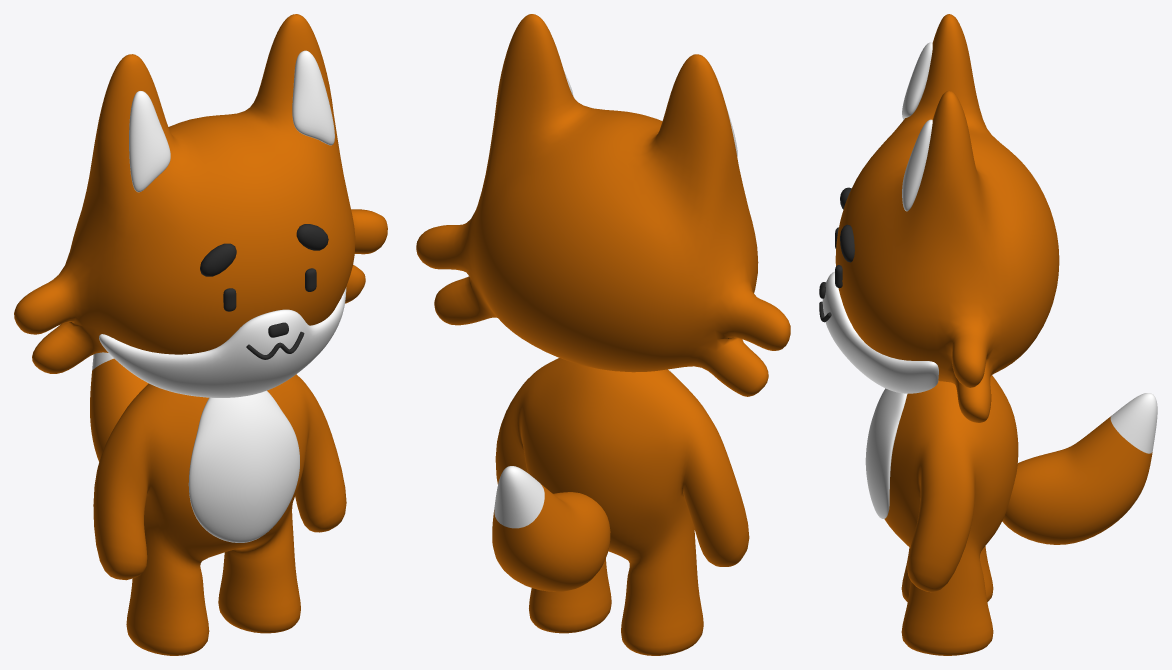
Rendered from asset.glb.
3 renders of one model, left to right at view 1: azimuth 30°, elevation 25°; view 2: azimuth 150°, elevation 25°; view 3: azimuth 270°, elevation 25°, orthographic. The views are drawn at different scales.
Visible parts, largest first — view 1: Cube, Cube.001, Cube.007, Cube.002, Cube.003, Cube.008, Cube.006, Cube.005; view 2: Cube, Cube.001, Cube.008; view 3: Cube, Cube.001, Cube.008, Cube.002, Cube.007, Cube.003, Cube.006.
Boxes of the visible parts, x1,y1,x2,y2 form: Cube: [14, 14, 387, 373]; Cube.001: [93, 374, 346, 655]; Cube.007: [188, 390, 299, 542]; Cube.002: [99, 287, 346, 397]; Cube.003: [129, 50, 334, 192]; Cube.008: [90, 352, 148, 461]; Cube.006: [200, 224, 328, 276]; Cube.005: [223, 268, 316, 311]; Cube: [416, 14, 790, 396]; Cube.001: [495, 358, 749, 655]; Cube.008: [492, 466, 610, 591]; Cube: [835, 14, 1059, 422]; Cube.001: [884, 375, 1018, 655]; Cube.008: [1002, 393, 1157, 544]; Cube.002: [822, 271, 938, 393]; Cube.007: [865, 388, 907, 518]; Cube.003: [902, 42, 932, 211]; Cube.006: [840, 187, 854, 262].
Bounding box in the file's own units: 0.5914 × 0.9087 × 0.489.
